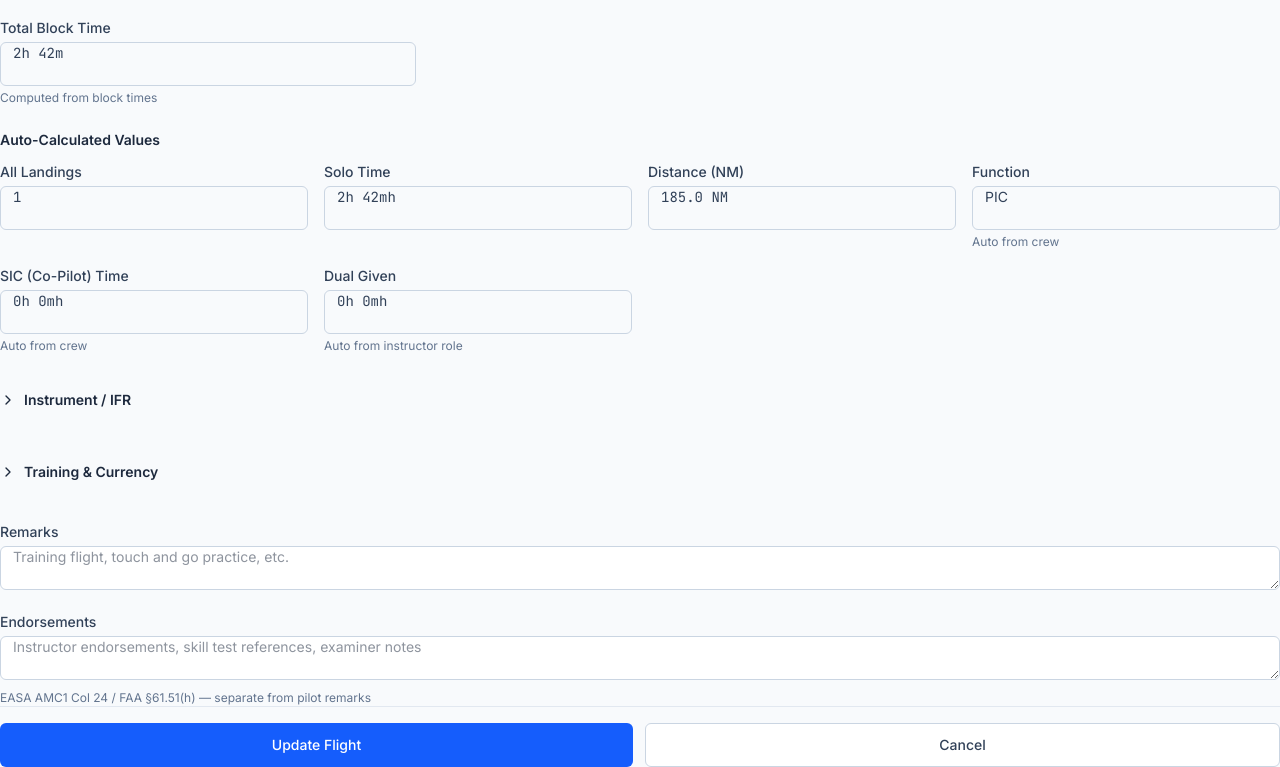
Test: FlightForm Instrument Tracking › populates instrument fields in edit mode
(page scrolled)
# Expand Instrument / IFR and Training & Currency sections
Click the button "Instrument / IFR" at (78, 400), box x1=0 y1=378 x2=1279 y2=422
(page scrolled)
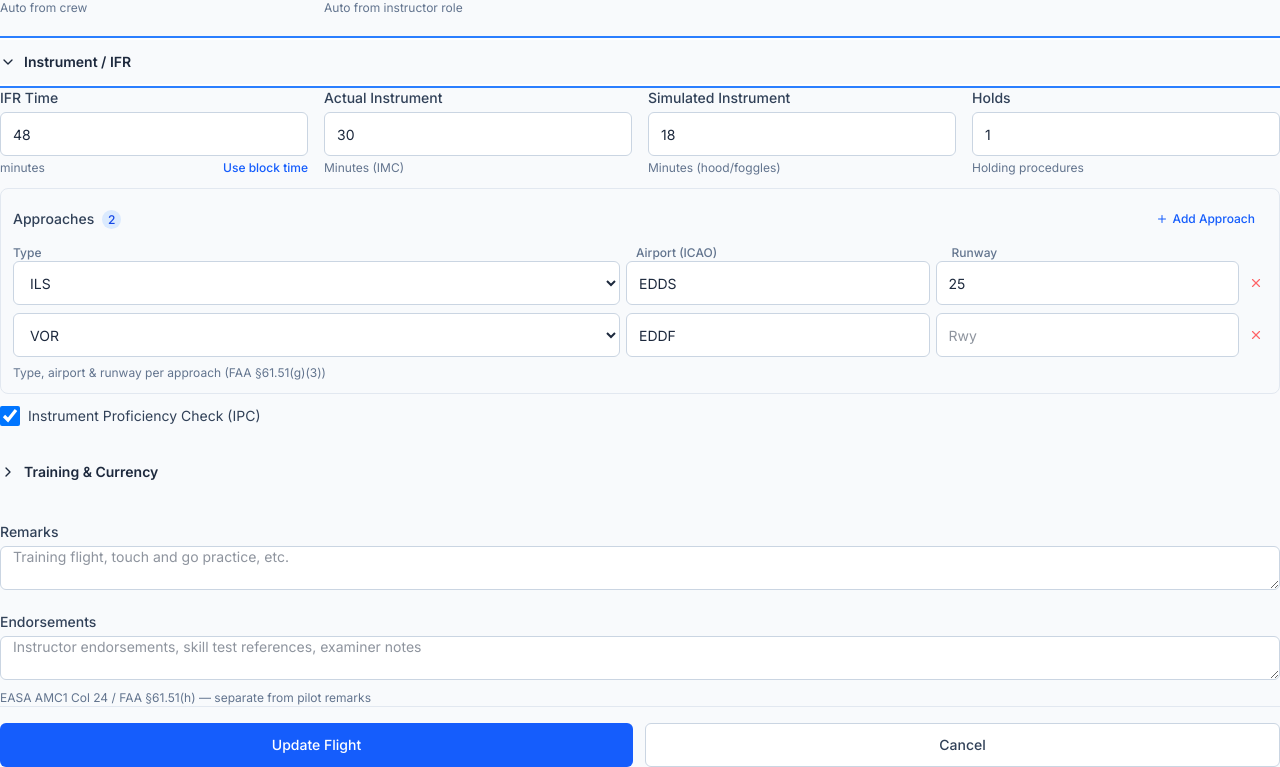
Click the button "Training & Currency" at (91, 472), box x1=0 y1=450 x2=1279 y2=494
(page scrolled)
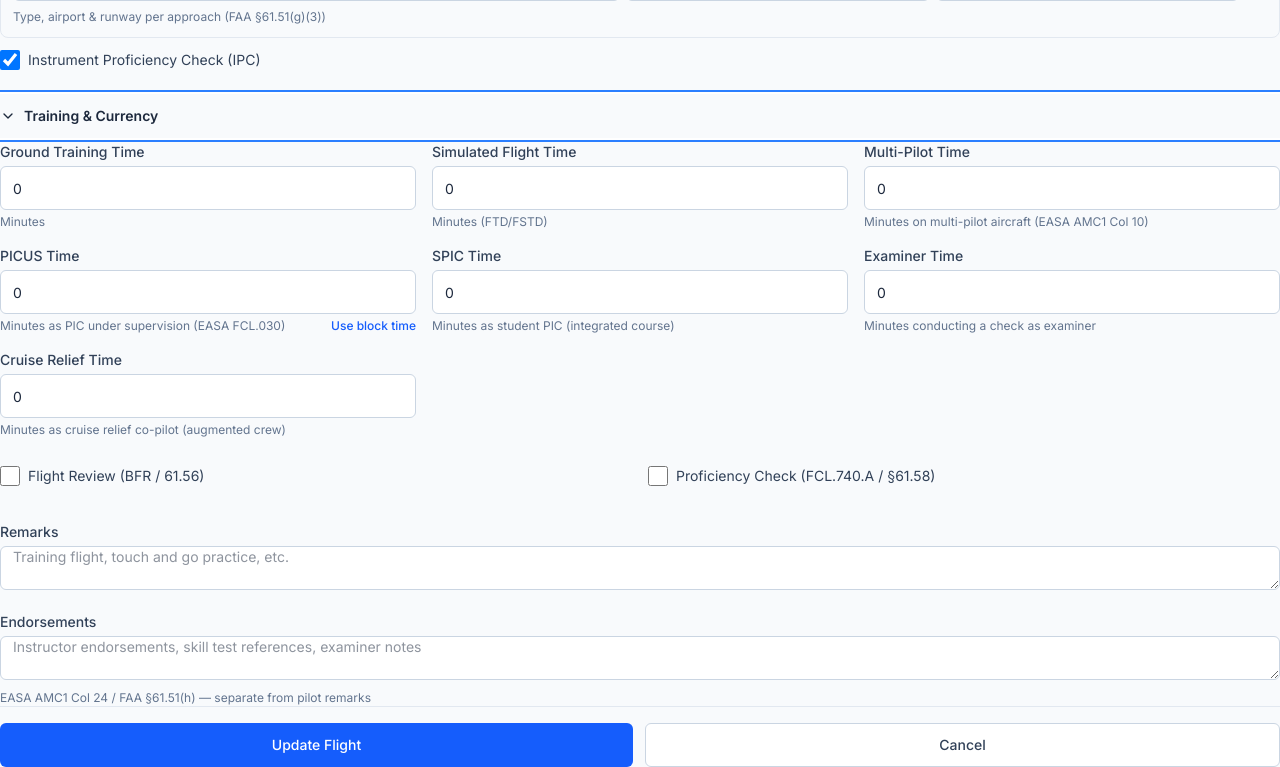
Expected: the checkbox labelled "Instrument Proficiency Check (IPC)" is checked, x1=0 y1=50 x2=20 y2=70
Expected: the checkbox labelled "Flight Review (BFR / 61.56)" is not checked, x1=0 y1=466 x2=20 y2=486
